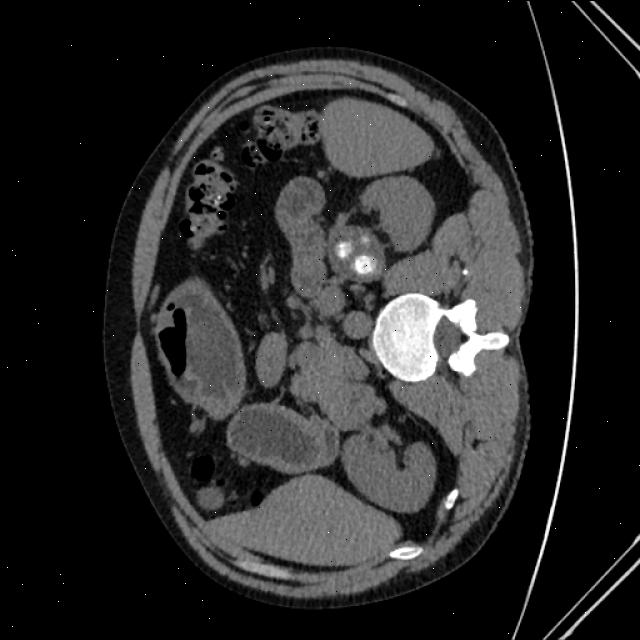kidneystone: (351, 252, 379, 275)
